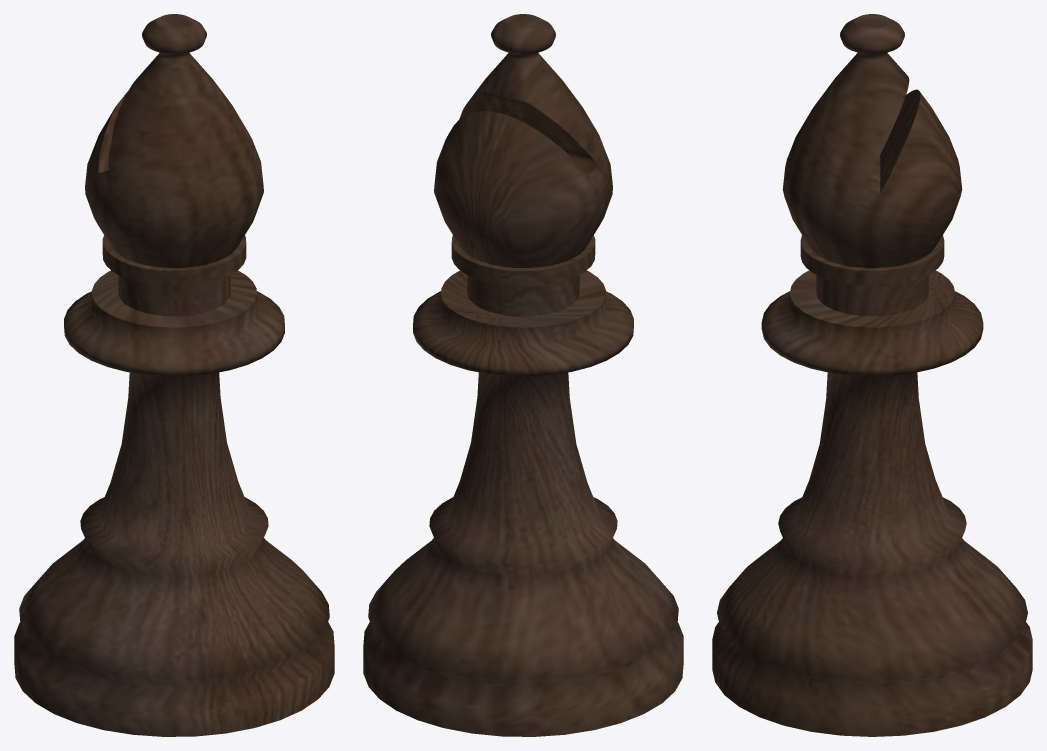
The model's file is Bishop.obj.
The picture shows the model from 3 angles, left to right: view 1: azimuth 30°, elevation 25°; view 2: azimuth 150°, elevation 25°; view 3: azimuth 270°, elevation 25°; orthographic projection.
Visible parts, largest first — view 1: bishop.003_Cylinder.007; view 2: bishop.003_Cylinder.007; view 3: bishop.003_Cylinder.007.
Boxes of the visible parts, box(x1,y1,x2,y2) form: bishop.003_Cylinder.007: box(14, 14, 334, 736); bishop.003_Cylinder.007: box(363, 14, 683, 736); bishop.003_Cylinder.007: box(712, 14, 1032, 736).
Bounding box in the file's own units: 1.12 × 2.51 × 1.12.
1 material, 1 textured.
